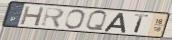A: (103, 12, 127, 33)
H: (19, 5, 46, 27)
O: (63, 9, 86, 30)
Q: (85, 10, 109, 32)
R: (40, 6, 66, 29)
T: (133, 13, 150, 34)
